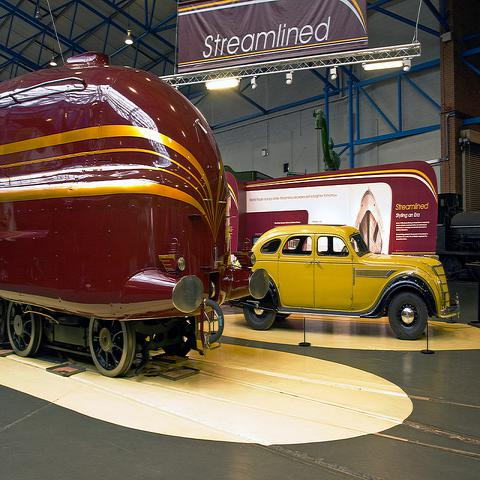car: (239, 224, 461, 341)
